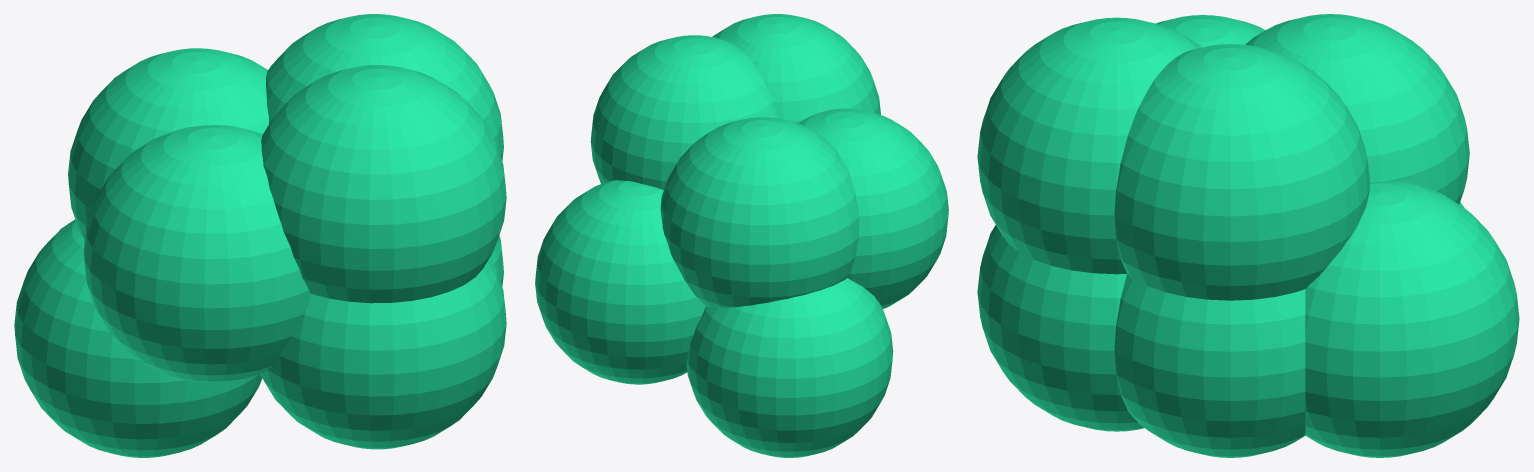
The model's file is gaz.gltf.
3 renders of one model, left to right at view 1: azimuth 30°, elevation 25°; view 2: azimuth 150°, elevation 25°; view 3: azimuth 270°, elevation 25°, orthographic. The views are drawn at different scales.
Visible parts, largest first — view 1: Sphere.006, Sphere, Sphere.005, Sphere.007, Sphere.001, Sphere.003; view 2: Sphere.001, Sphere.007, Sphere.004, Sphere.003, Sphere, Sphere.006; view 3: Sphere.003, Sphere.004, Sphere.006, Sphere.002, Sphere.005, Sphere.001, Sphere.
Boxes of the visible parts, x1=… form: Sphere.006: x1=261, y1=65, x2=506, y2=303; Sphere: x1=83, y1=125, x2=310, y2=382; Sphere.005: x1=260, y1=258, x2=506, y2=449; Sphere.007: x1=14, y1=219, x2=262, y2=457; Sphere.001: x1=68, y1=48, x2=268, y2=239; Sphere.003: x1=266, y1=14, x2=503, y2=160; Sphere.001: x1=660, y1=117, x2=859, y2=307; Sphere.007: x1=686, y1=278, x2=893, y2=457; Sphere.004: x1=535, y1=180, x2=705, y2=384; Sphere.003: x1=590, y1=35, x2=777, y2=190; Sphere: x1=797, y1=108, x2=948, y2=308; Sphere.006: x1=712, y1=14, x2=880, y2=122; Sphere.003: x1=1114, y1=44, x2=1370, y2=300; Sphere.004: x1=1305, y1=181, x2=1519, y2=457; Sphere.006: x1=977, y1=17, x2=1202, y2=274; Sphere.002: x1=1114, y1=274, x2=1305, y2=457; Sphere.005: x1=977, y1=225, x2=1144, y2=431; Sphere.001: x1=1245, y1=14, x2=1469, y2=204; Sphere: x1=1156, y1=15, x2=1265, y2=47.
Bounding box in the file's own units: 4.79 × 4.8 × 5.23.
